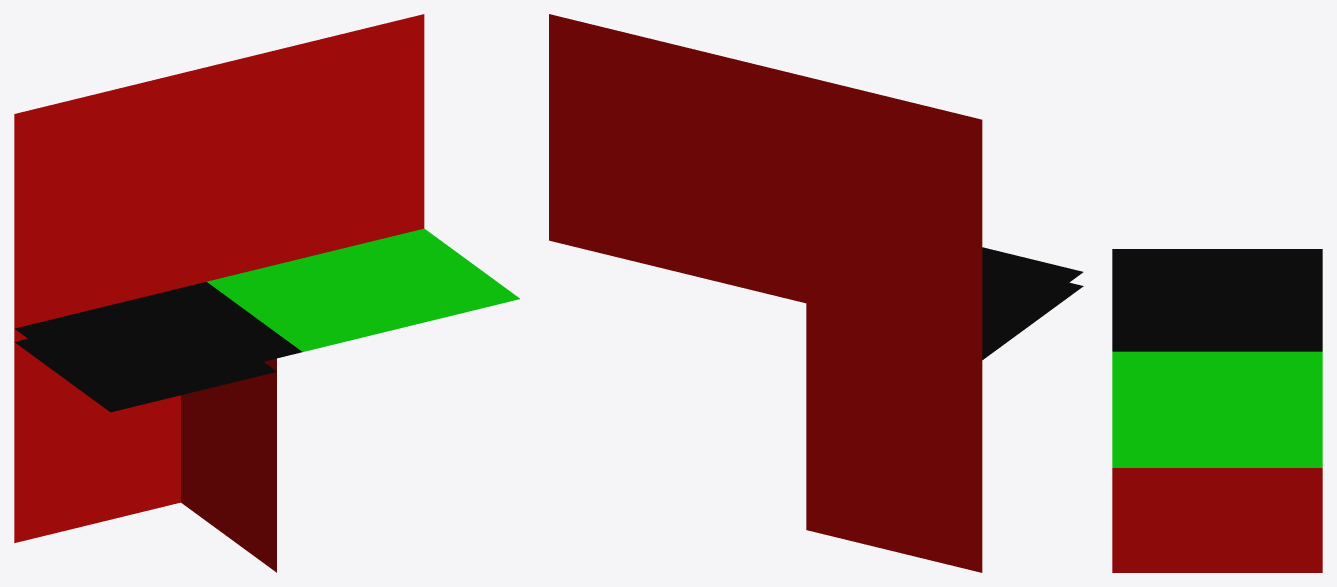
3 renders of one model, left to right at view 1: azimuth 30°, elevation 25°; view 2: azimuth 150°, elevation 25°; view 3: azimuth 270°, elevation 25°, orthographic. The views are drawn at different scales.
Parts seen in each view (by area): view 1: None_A_W_A_E_A_P_A_E_None; view 2: None_A_W_A_E_A_P_A_E_None; view 3: None_A_W_A_E_A_P_A_E_None.
Boxes of the visible parts, left/top/right/bottom form: None_A_W_A_E_A_P_A_E_None: left=14, top=14, right=519, bottom=572; None_A_W_A_E_A_P_A_E_None: left=549, top=14, right=1083, bottom=572; None_A_W_A_E_A_P_A_E_None: left=1112, top=249, right=1322, bottom=572.
Bounding box in the file's own units: 100 × 100 × 40.62.
